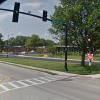Crosswalk: (2, 69, 62, 94)
